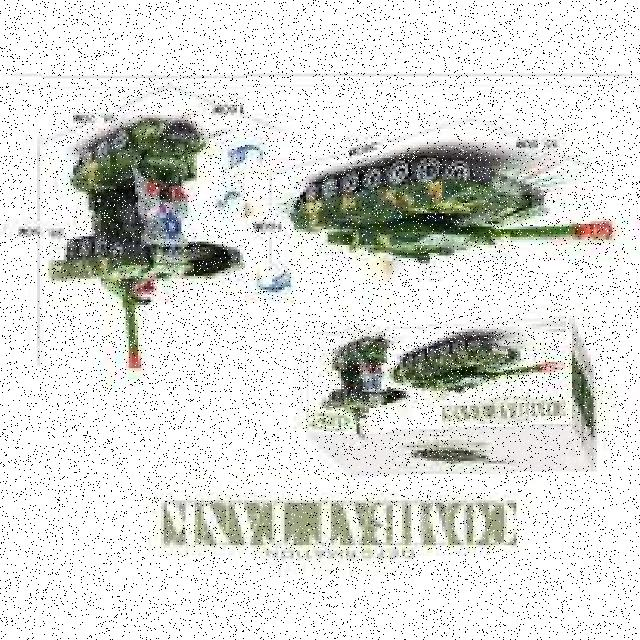MIL_MBT: (42, 74, 245, 378), (289, 145, 617, 281), (391, 333, 563, 398), (326, 335, 386, 434)
